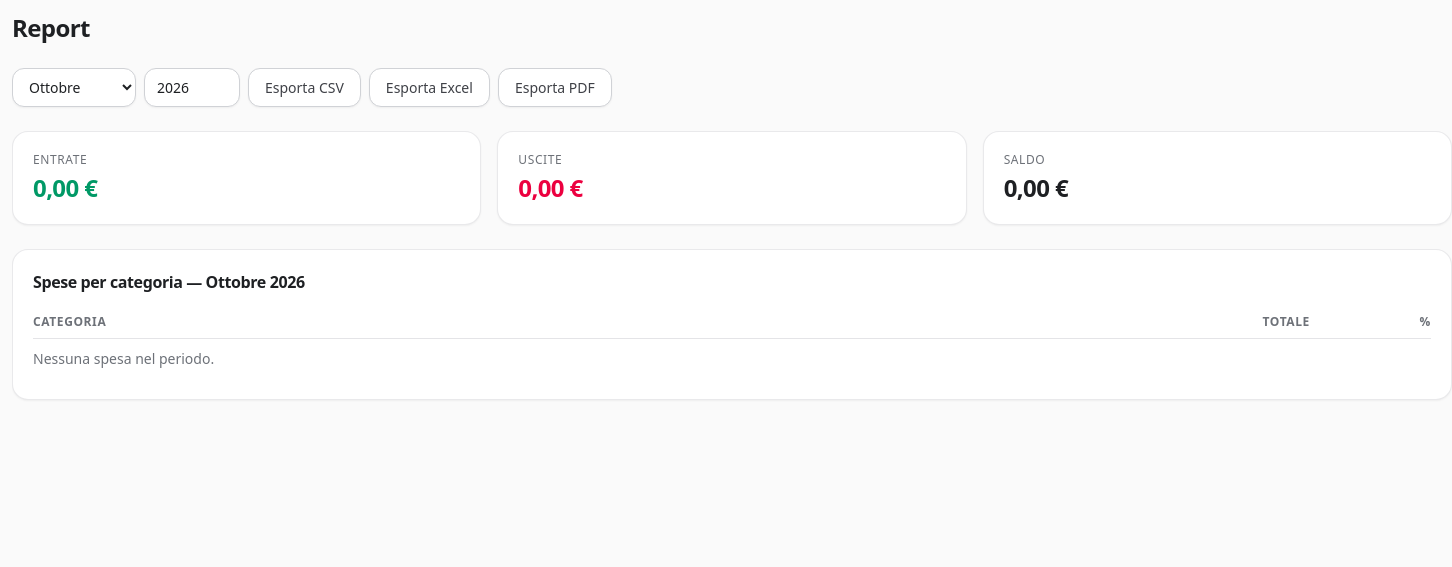
Test: ReportPage › shows monthly averages when a full past year is selected
Select "Intero anno" in the dropdown named "Mese" at (74, 88), box [12,68,136,107]
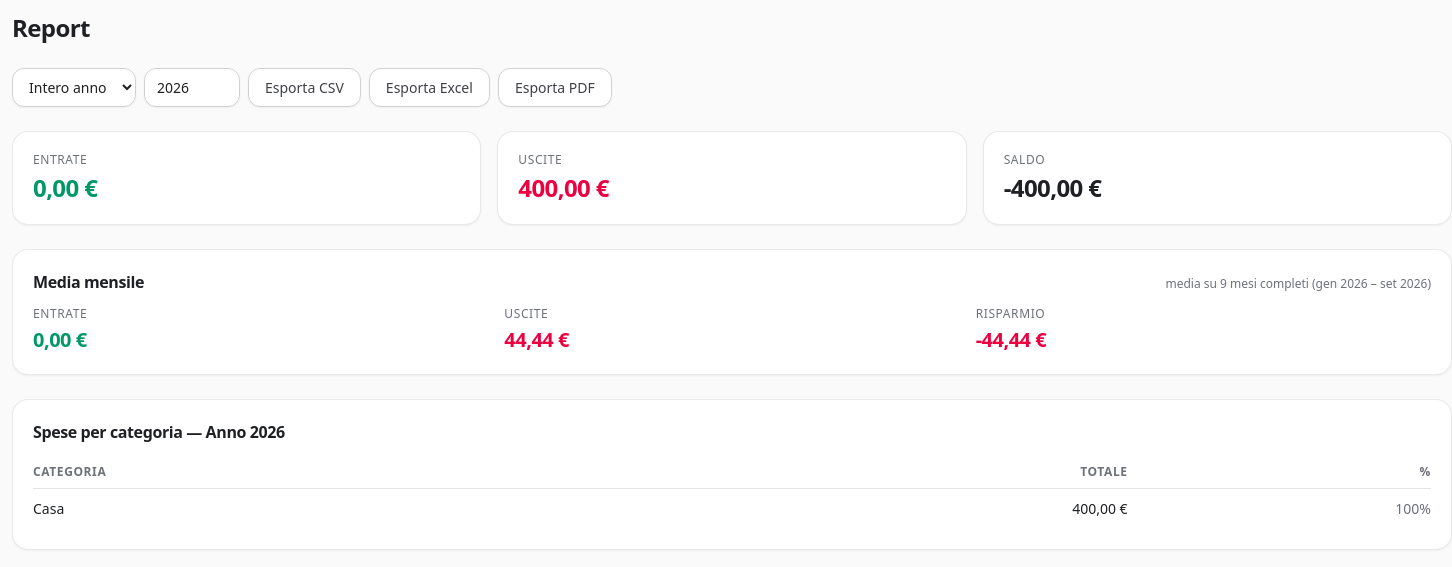
Replace the text in the number field named "Anno" with "2025" at (192, 88), box [144,68,240,107]
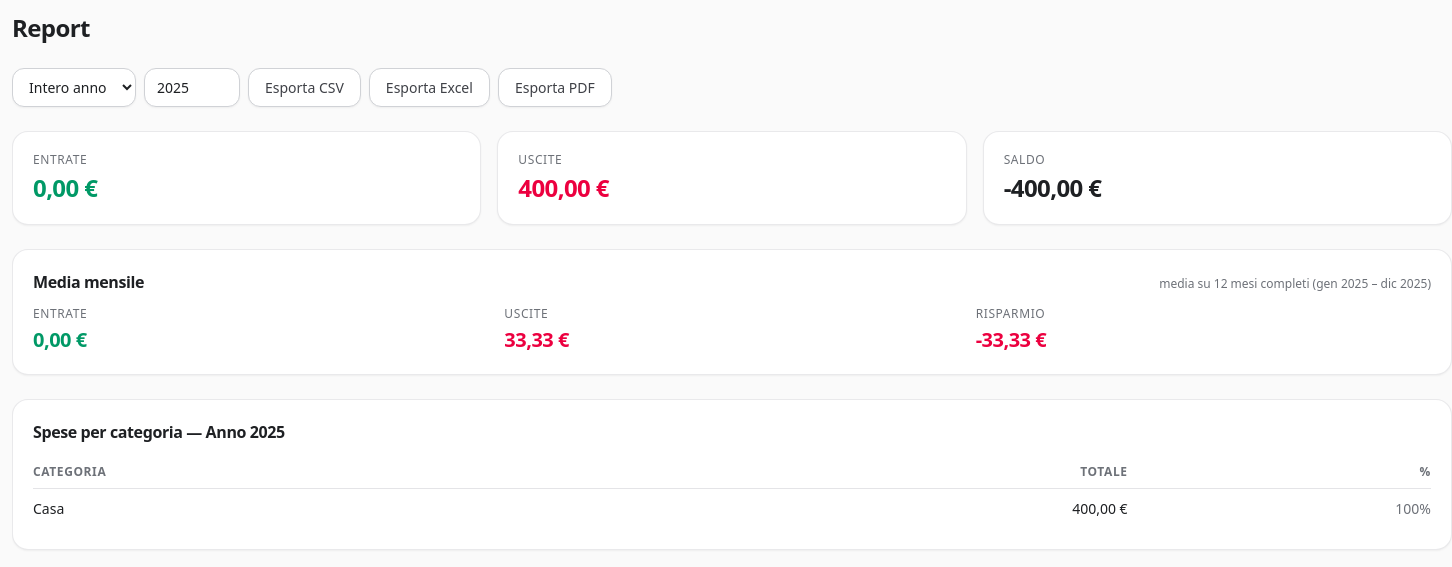
Now the heading "Media mensile" is shown, box [33,270,144,294]
Now the text "12 mesi completi" is shown, box [1159,275,1431,292]
